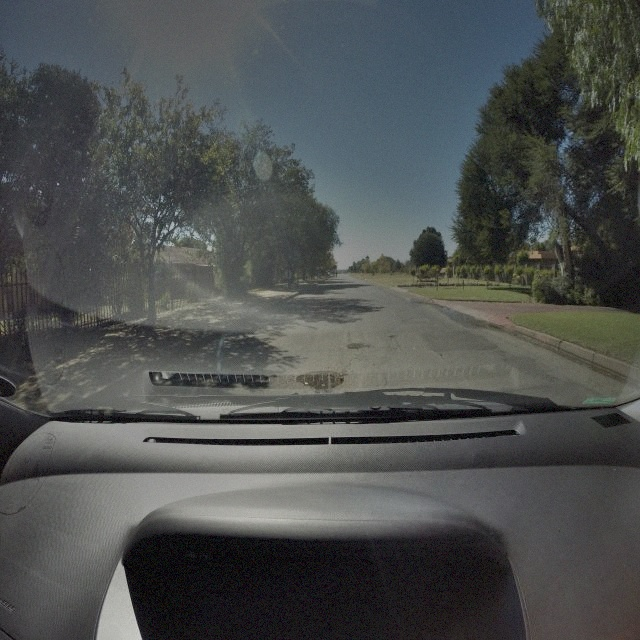pothole: (296, 370, 346, 393), (347, 341, 364, 353), (388, 334, 398, 339)
